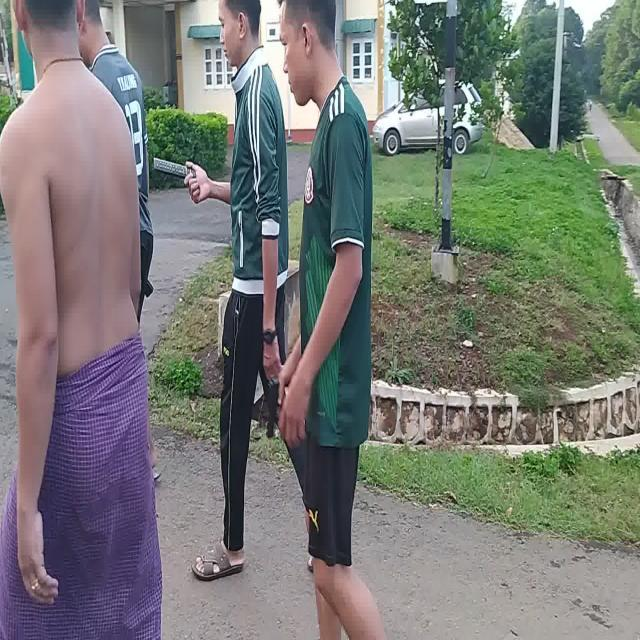gun: (266, 380, 280, 436)
